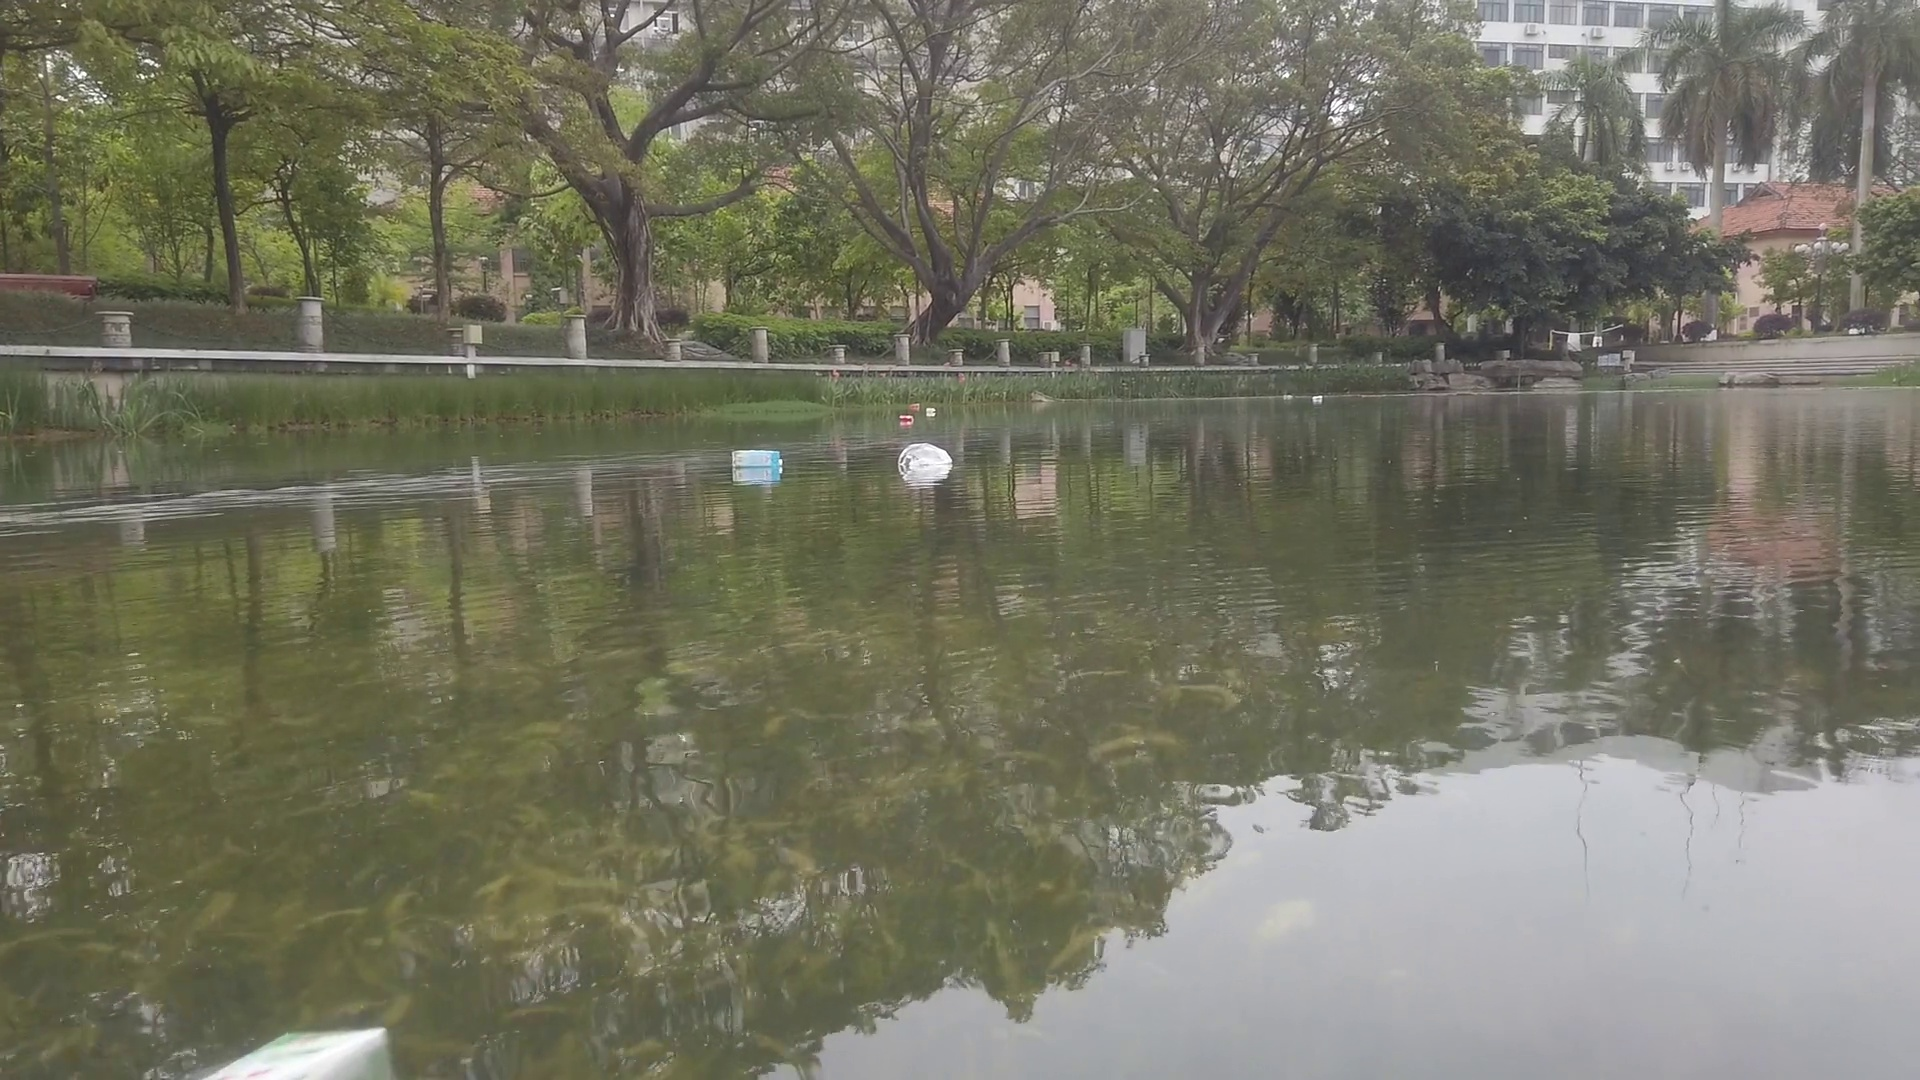bottle: (899, 414, 913, 422), (927, 405, 938, 414), (1313, 394, 1323, 404), (909, 404, 919, 410), (1284, 396, 1294, 400)
carton: (733, 450, 785, 468)
plastic: (899, 444, 955, 465)
